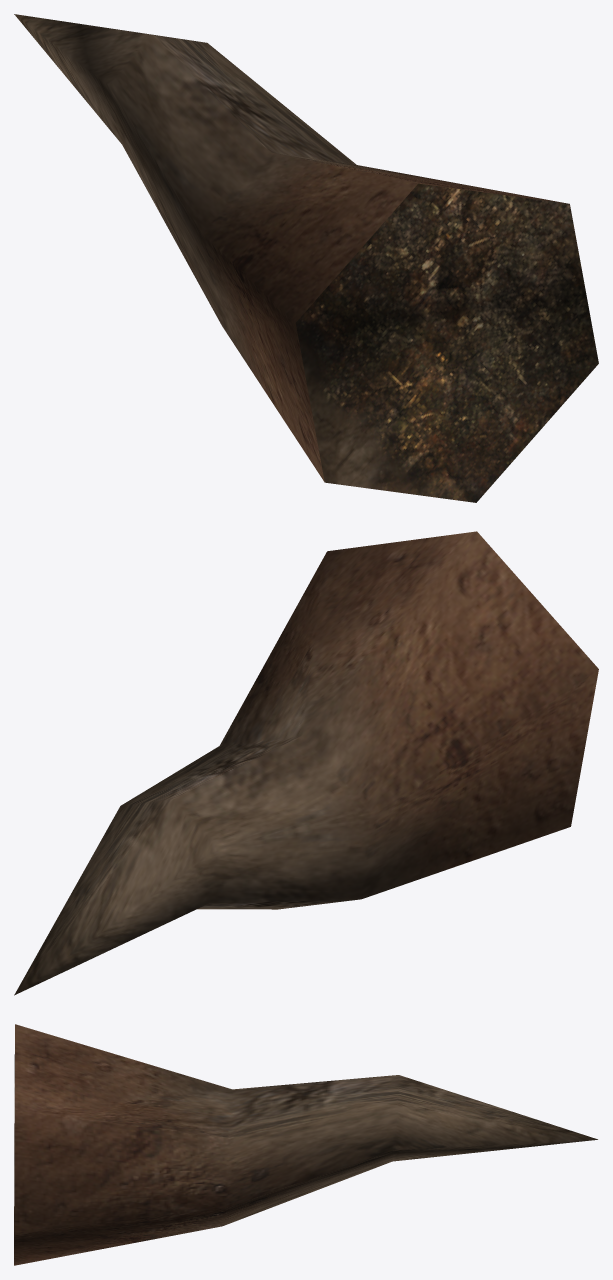
The model's file is stalactite_15.obj.
3 views of the same model, one above another, from view 1: azimuth 30°, elevation 25°; view 2: azimuth 150°, elevation 25°; view 3: azimuth 270°, elevation 25° (orthographic). The views are drawn at different scales.
Parts seen in each view (by area): view 1: (null); view 2: (null); view 3: (null).
Part boxes in pixels (<box>): (null): <box>14,14,598,502</box>; (null): <box>14,531,598,995</box>; (null): <box>14,1024,597,1265</box>.
Size of the model in its own units: 2.14 by 2.25 by 5.35.
